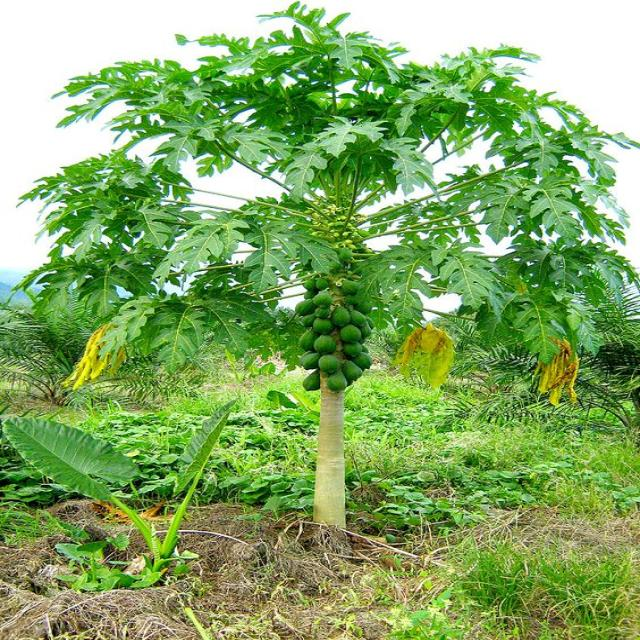Papaya-Tree: (91, 23, 575, 535)
